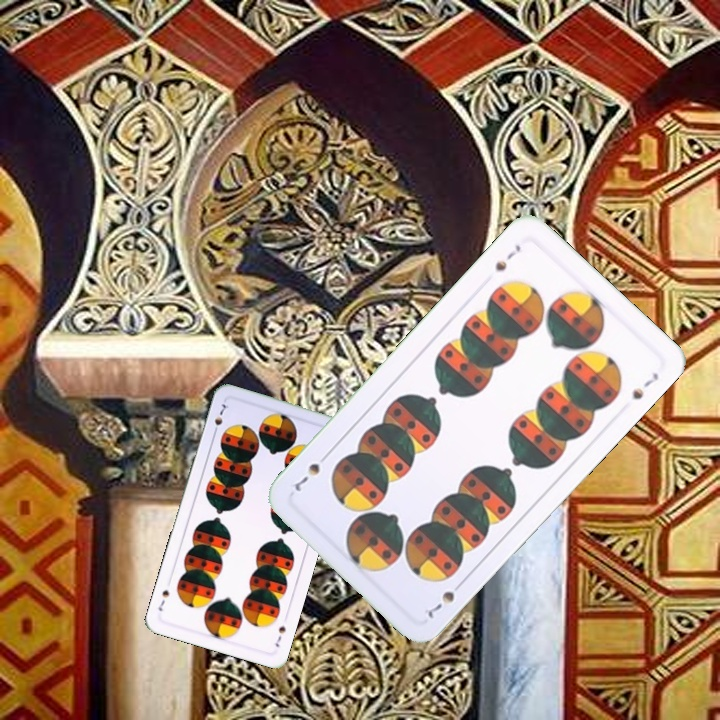S7: (423, 576, 467, 622), (491, 240, 524, 274), (209, 399, 231, 437), (271, 622, 288, 650)
